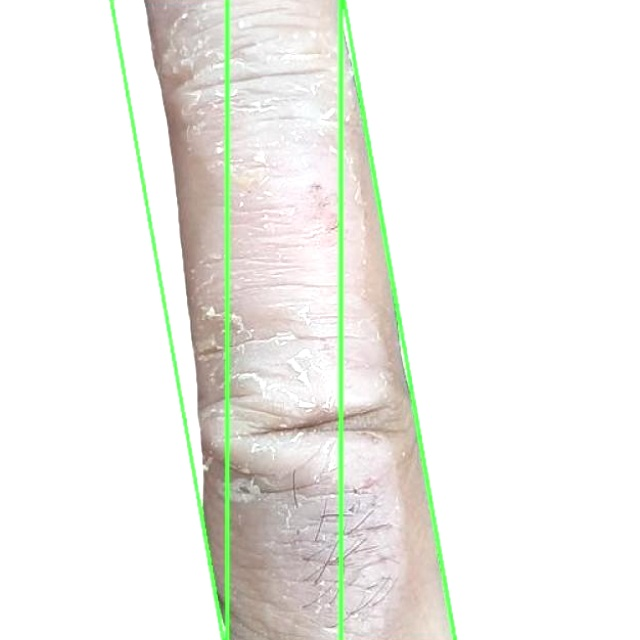Eczema: (111, 0, 456, 639), (340, 0, 639, 639), (0, 0, 227, 639)
